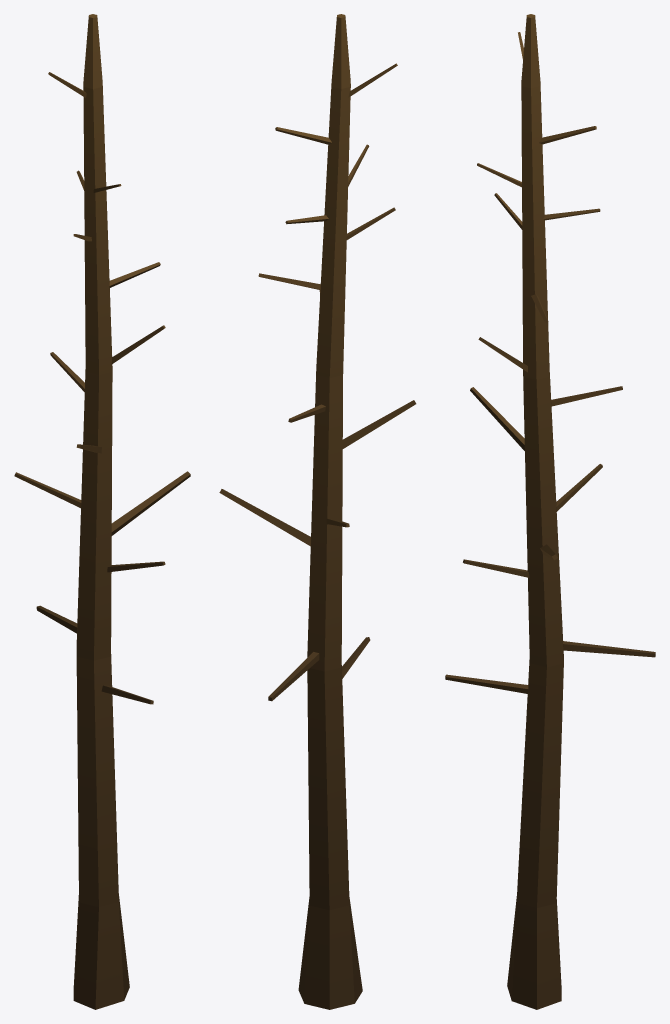
The model's file is Tree_05.fbx.
The picture shows the model from 3 angles, left to right: view 1: azimuth 30°, elevation 25°; view 2: azimuth 150°, elevation 25°; view 3: azimuth 270°, elevation 25°; orthographic projection.
Visible parts, largest first — view 1: Tree_05; view 2: Tree_05; view 3: Tree_05.
Boxes of the visible parts, <box> form: Tree_05: <box>14,14,190,1009</box>; Tree_05: <box>219,14,416,1009</box>; Tree_05: <box>445,14,655,1009</box>.
Bounding box in the file's own units: 1.08 × 6.36 × 1.25.
